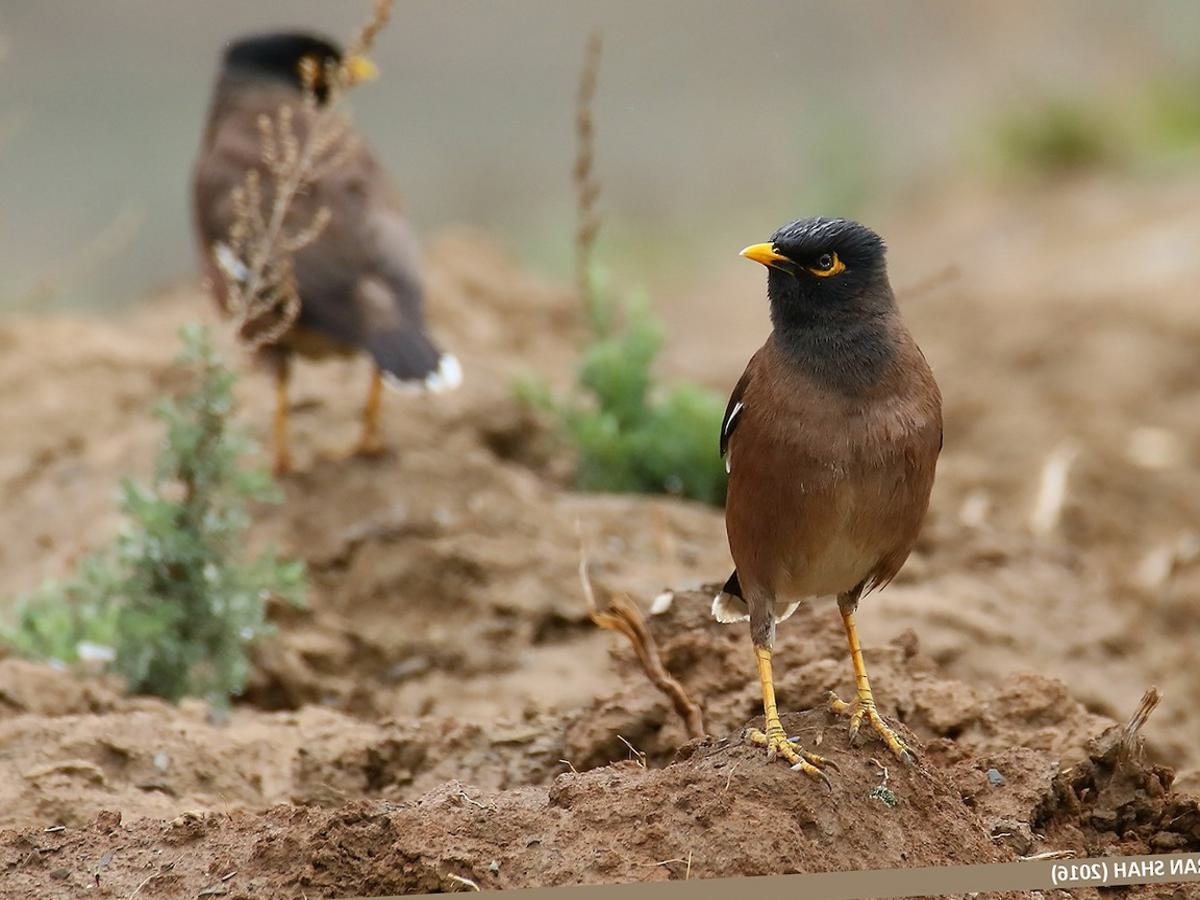myna: (727, 211, 985, 782)
